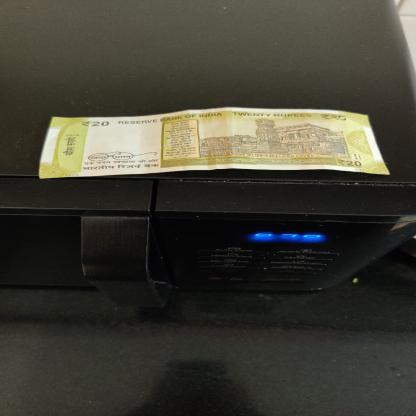New20Back: (34, 107, 393, 181)
